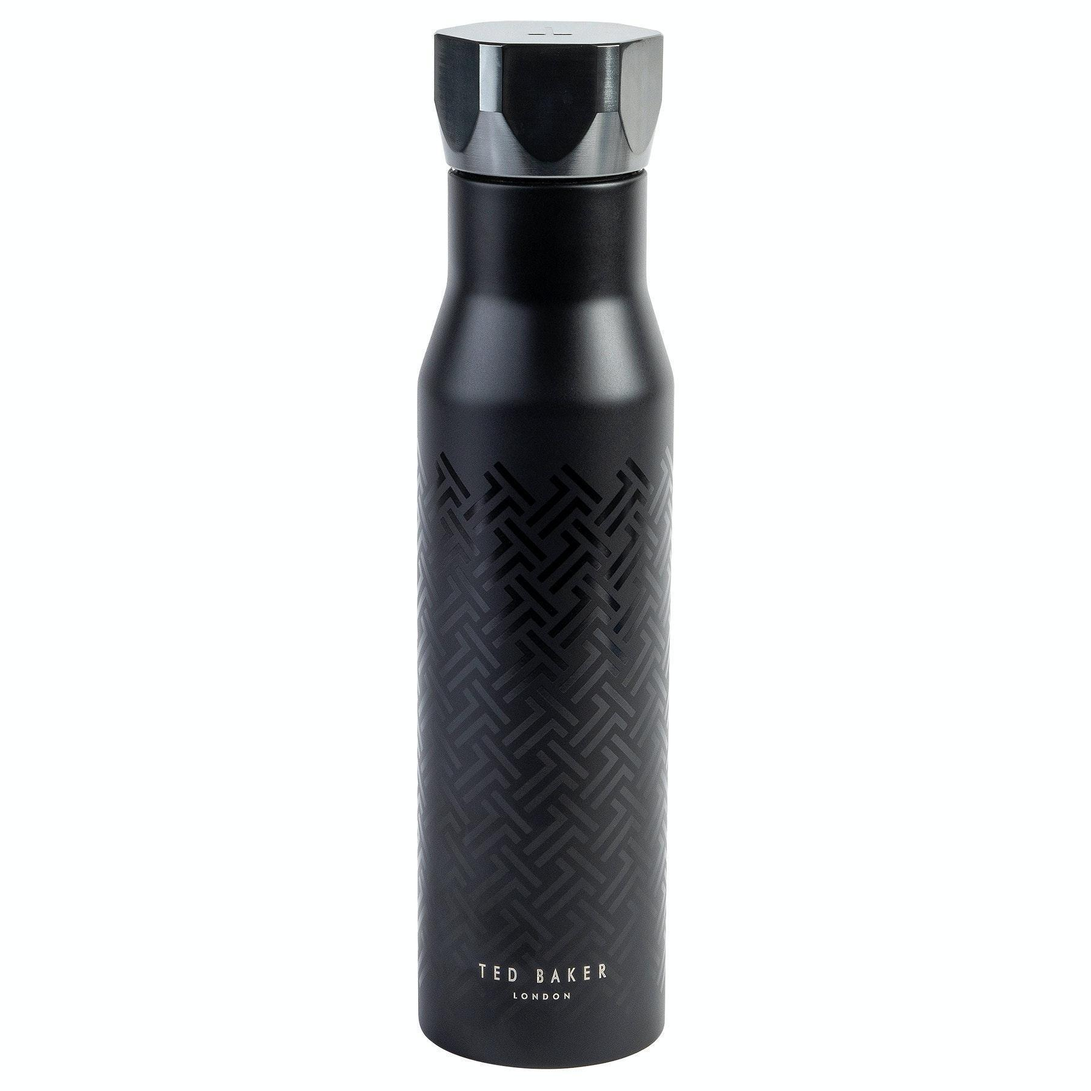gym bottle: (407, 9, 687, 1086)
